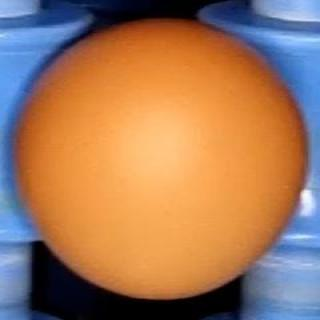Telur: (13, 18, 310, 300)
